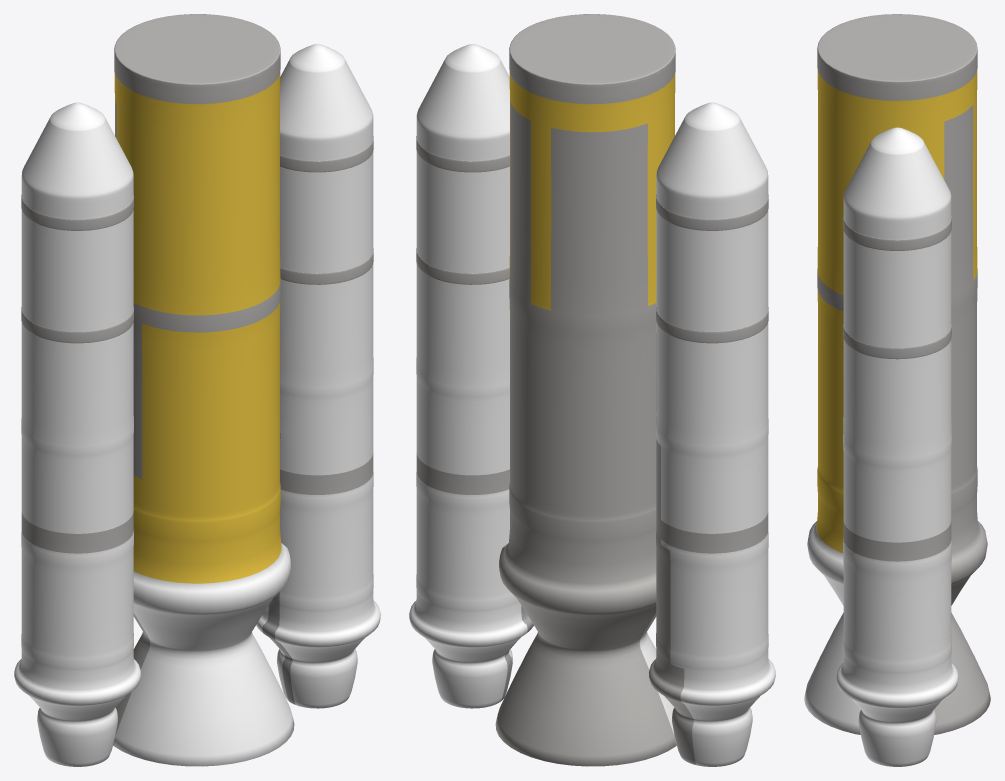
Rendered from fusee_bottom 1.fbx.
3 views of the same model, side by side, from view 1: azimuth 30°, elevation 25°; view 2: azimuth 150°, elevation 25°; view 3: azimuth 270°, elevation 25° (orthographic). The views are drawn at different scales.
Visible parts, largest first — view 1: fusee_bottom; view 2: fusee_bottom; view 3: fusee_bottom.
Part boxes in pixels (left/top/right/bottom): fusee_bottom: left=14, top=14, right=380, bottom=766; fusee_bottom: left=409, top=14, right=775, bottom=766; fusee_bottom: left=804, top=14, right=990, bottom=766.
Size of the model in its own units: 5.29 by 9.78 by 2.54.
